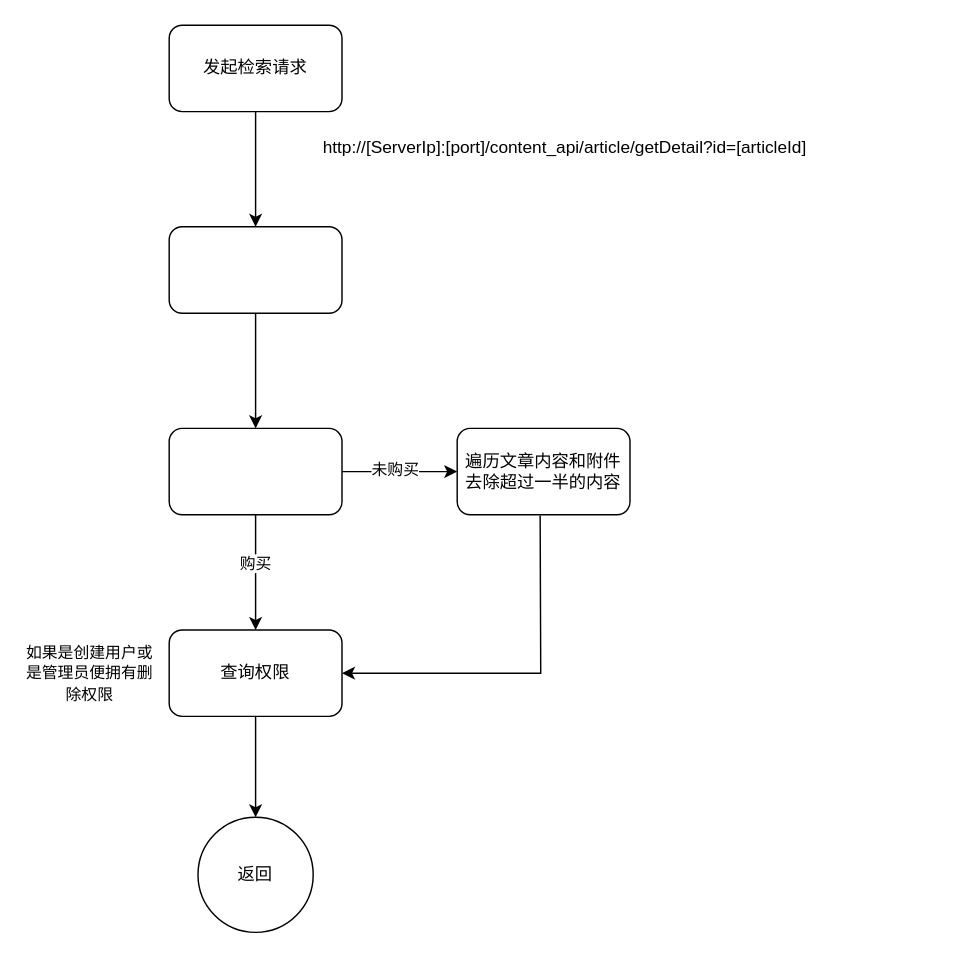
Some shapes in this 971 by 958 pixel diagram are drawn without their labels. Each missing label, with the centre of its shape:
"检索用户购买内容" belongs at point (255, 471).
"通过文章id检索文章" belongs at point (255, 269).
